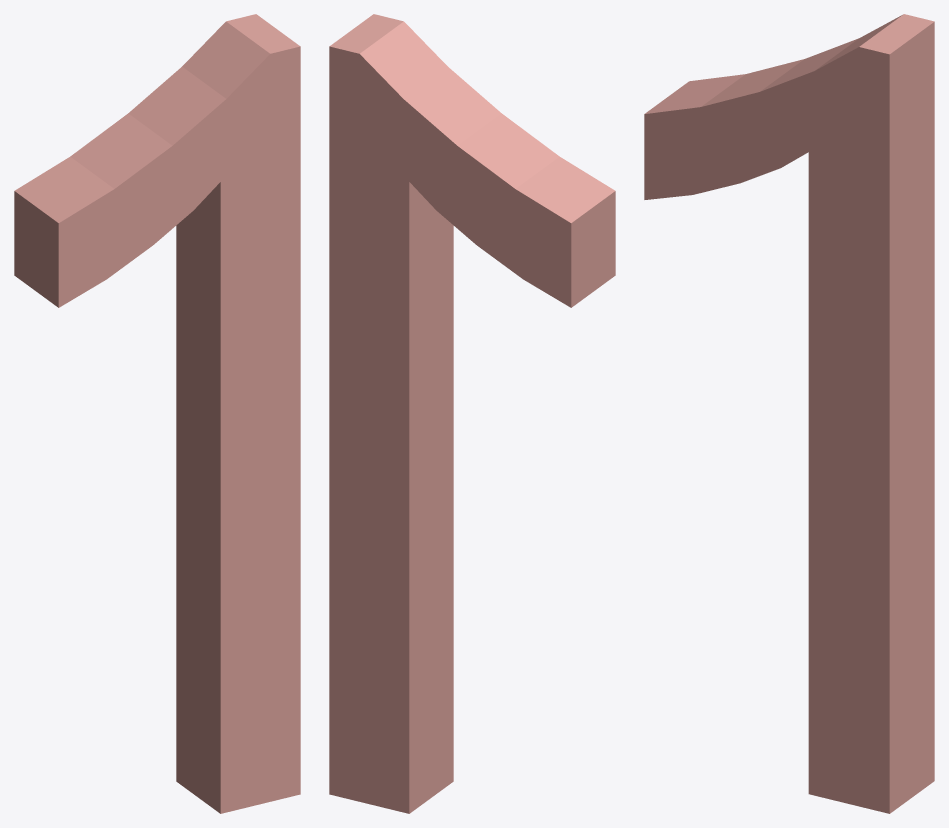
Rendered from tsifa.fbx.
3 views of the same model, side by side, from view 1: azimuth 30°, elevation 25°; view 2: azimuth 150°, elevation 25°; view 3: azimuth 330°, elevation 25° (orthographic).
Parts seen in each view (by area): view 1: Extrude_3; view 2: Extrude_3; view 3: Extrude_3.
Boxes of the visible parts, bbox=[...] form: Extrude_3: bbox=[14, 14, 300, 813]; Extrude_3: bbox=[329, 14, 615, 813]; Extrude_3: bbox=[644, 14, 934, 813].
Size of the model in its own units: 3.15 by 9.31 by 1.
